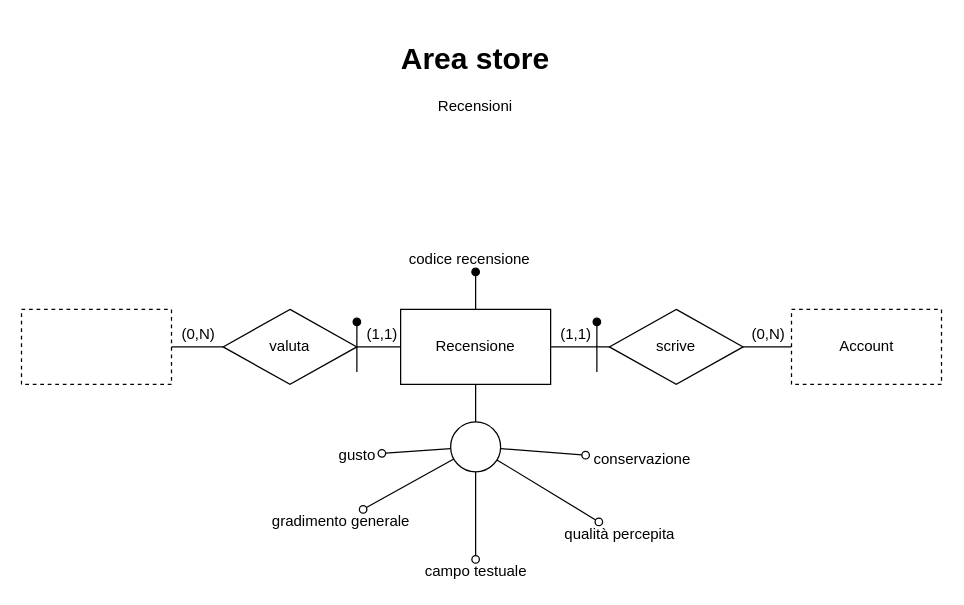
This 964x605 diagram has some shape labels left out. Here are the shapes that lost their labels. From the top down, the box of each, then its label:
(20, 308, 172, 384): Prodotto
(449, 421, 501, 472): giudizi
